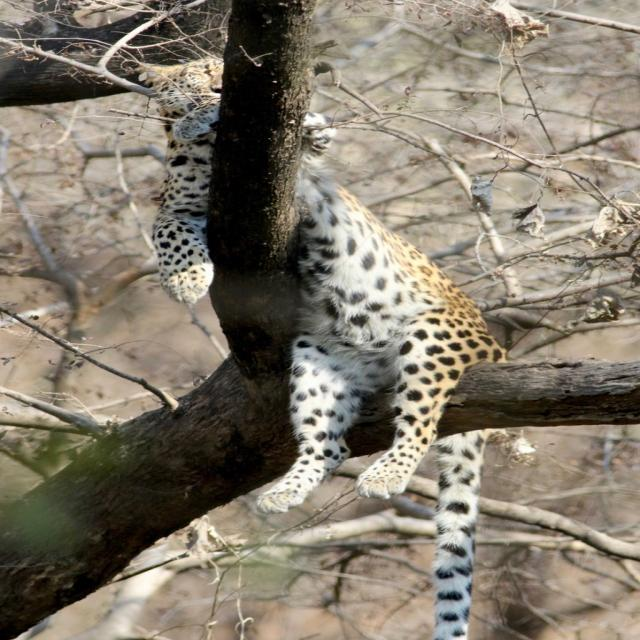Leopard: (158, 57, 489, 640)
